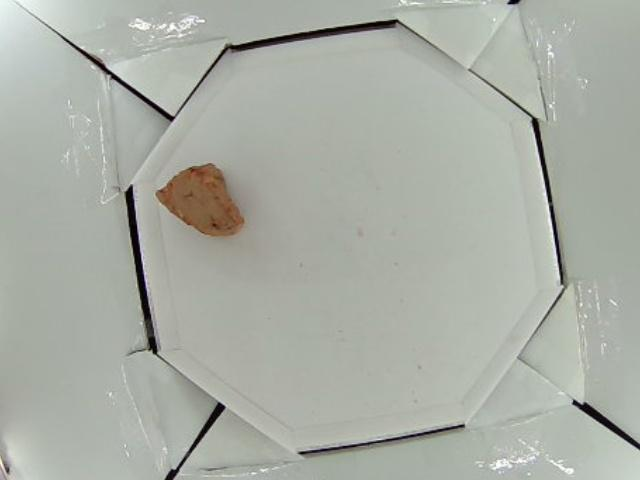Brisk: (156, 165, 245, 238)
